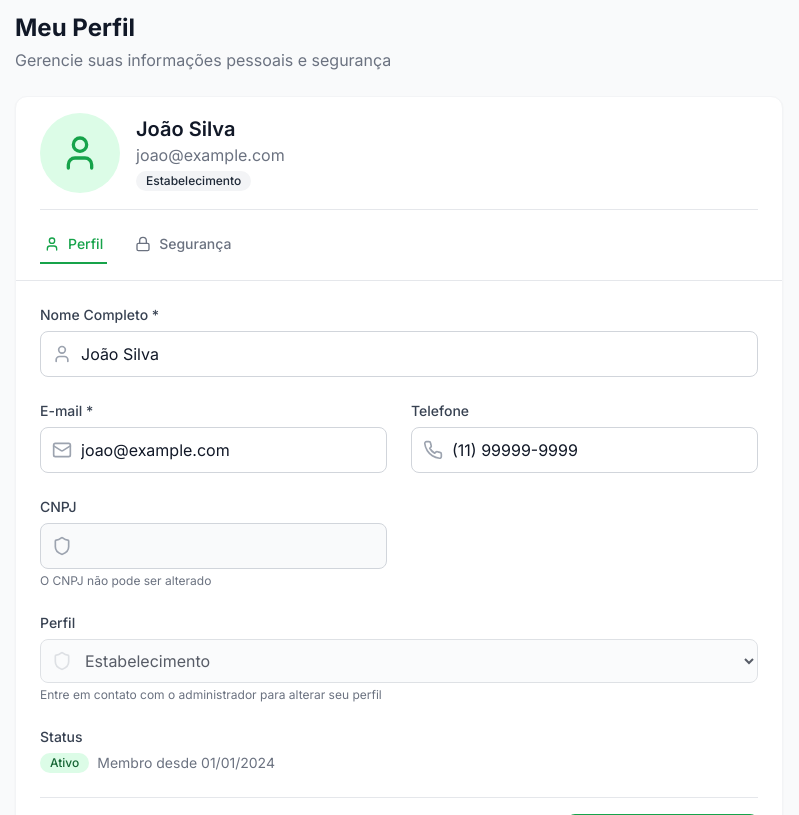
Test: ProfilePage › shows password tab when clicked
Click the button "Segurança".
click(183, 245)  # box [131,226,236,264]
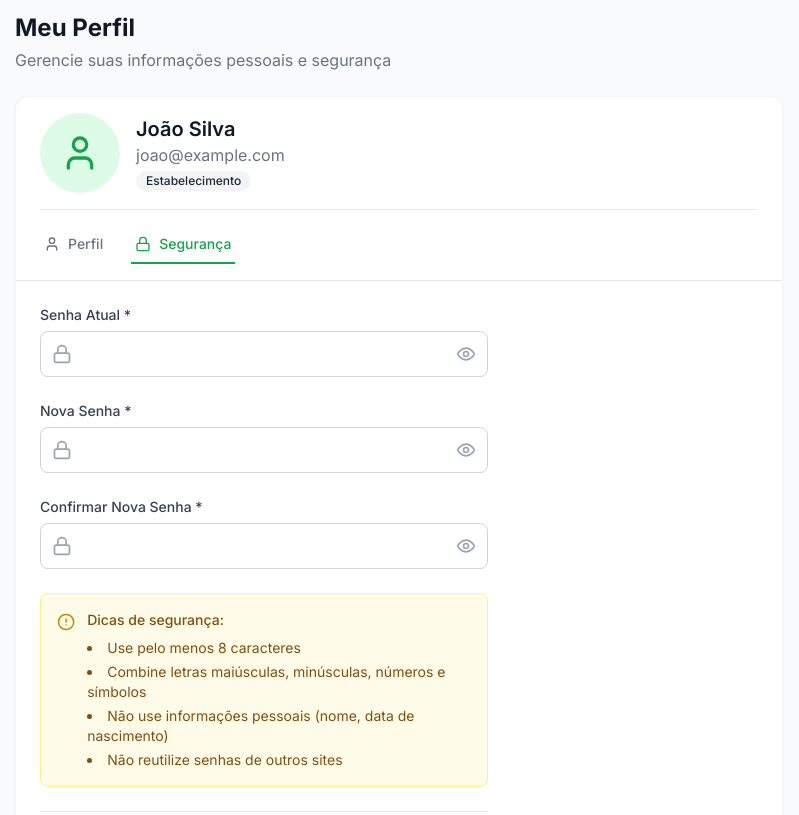
Check: the text "Senha Atual *" is shown, box [40,306,131,323]
Check: the text "Confirmar Nova Senha *" is shown, box [40,498,203,515]
